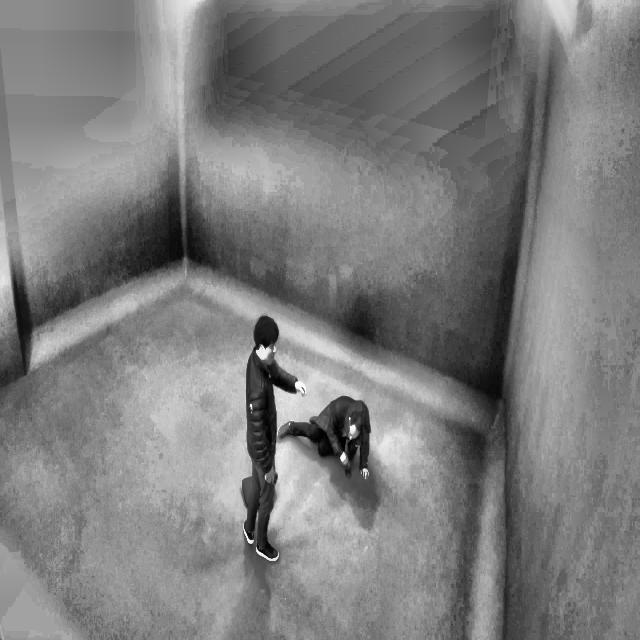assult: (234, 277, 397, 591), (273, 341, 384, 482), (277, 394, 383, 487)
